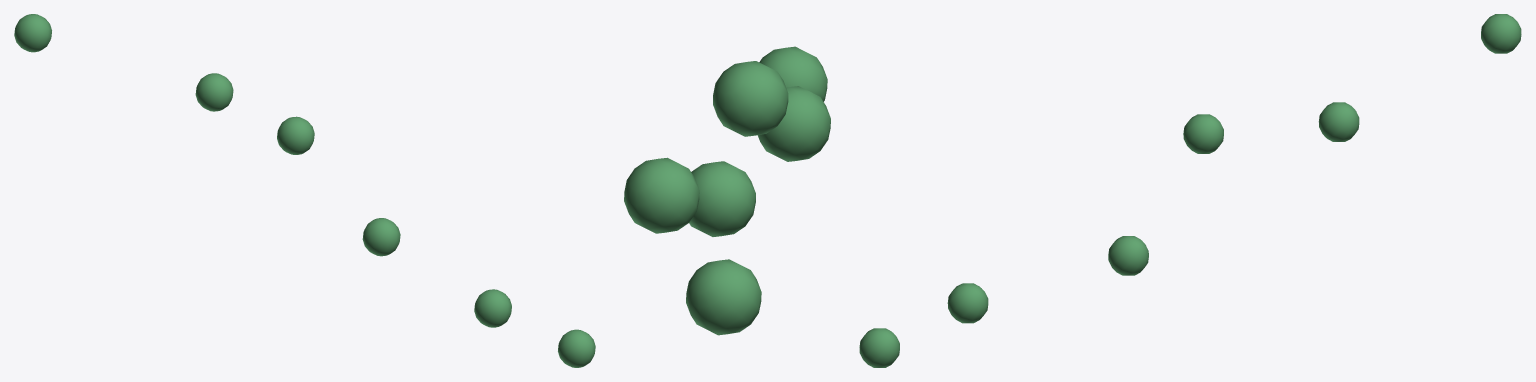
3 renders of one model, left to right at view 1: azimuth 30°, elevation 25°; view 2: azimuth 150°, elevation 25°; view 3: azimuth 270°, elevation 25°, orthographic. The views are drawn at different scales.
Visible parts, largest first — view 1: 右侧腋后淋巴结; view 2: 右侧腋后淋巴结; view 3: 右侧腋后淋巴结.
Part boxes in pixels (left/top/right/bottom): 右侧腋后淋巴结: left=14, top=14, right=595, bottom=367; 右侧腋后淋巴结: left=624, top=46, right=830, bottom=335; 右侧腋后淋巴结: left=859, top=14, right=1521, bottom=367.
Bounding box in the file's own units: 0.0332 × 0.0221 × 0.0612.
